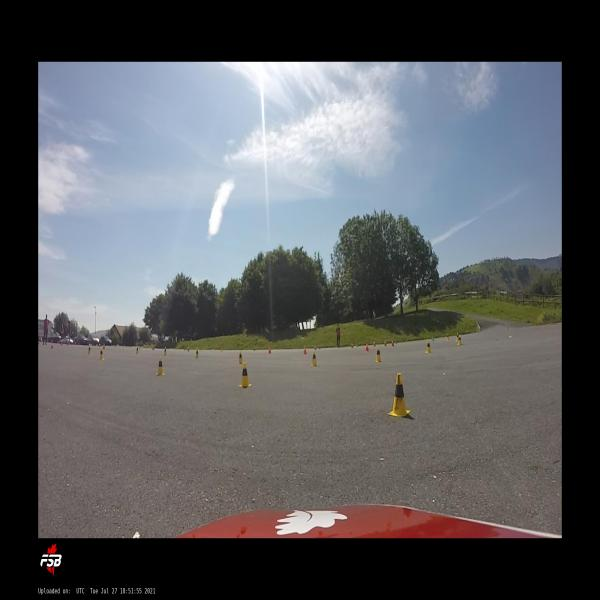orange_cone: (303, 347, 307, 354), (365, 344, 369, 351), (268, 347, 271, 353), (392, 340, 394, 346)
yellow_cone: (389, 374, 411, 417), (239, 362, 251, 387), (156, 355, 165, 376), (375, 347, 382, 362), (311, 352, 318, 366), (425, 340, 431, 354), (238, 351, 242, 364), (457, 336, 462, 346), (88, 344, 92, 355), (99, 350, 103, 360), (195, 350, 199, 359), (164, 346, 167, 355), (136, 346, 139, 354), (456, 333, 458, 342)
